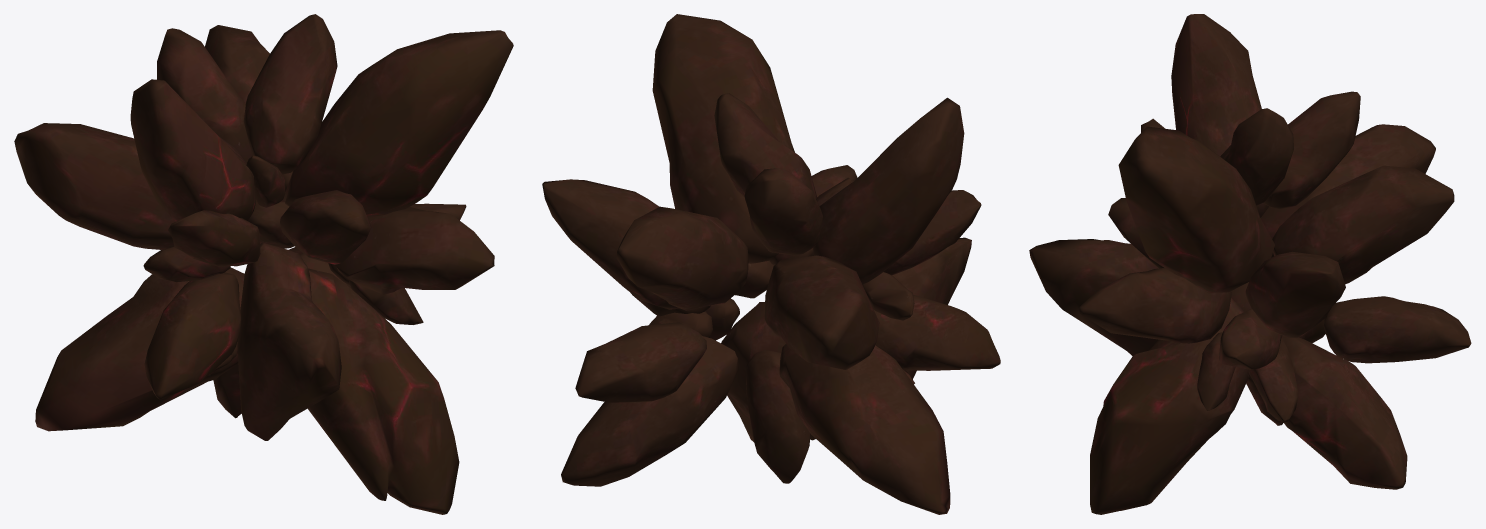
File: 019ec7fd-3597-7596-a472-6bb14eefbe74.glb
3 views of the same model, side by side, from view 1: azimuth 30°, elevation 25°; view 2: azimuth 150°, elevation 25°; view 3: azimuth 270°, elevation 25° (orthographic). The views are drawn at different scales.
Visible parts, largest first — view 1: tripo_node_bdb9397e-caff-4d8f-ab8c-fbbd32757947; view 2: tripo_node_bdb9397e-caff-4d8f-ab8c-fbbd32757947; view 3: tripo_node_bdb9397e-caff-4d8f-ab8c-fbbd32757947.
Part boxes in pixels (x1,y1,x2,y2): tripo_node_bdb9397e-caff-4d8f-ab8c-fbbd32757947: (14,14,513,514); tripo_node_bdb9397e-caff-4d8f-ab8c-fbbd32757947: (542,14,1000,514); tripo_node_bdb9397e-caff-4d8f-ab8c-fbbd32757947: (1029,14,1471,514).
Size of the model in its own units: 0.9668 by 0.998 by 0.998.
Materials: 1 (1 with a texture image).
